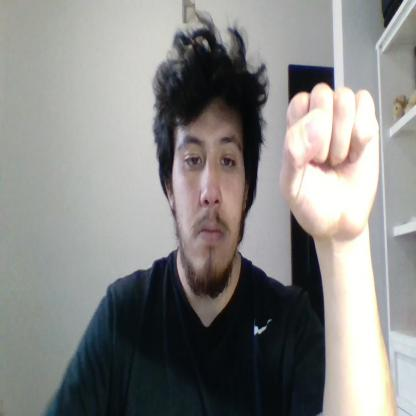S: (280, 84, 380, 238)
